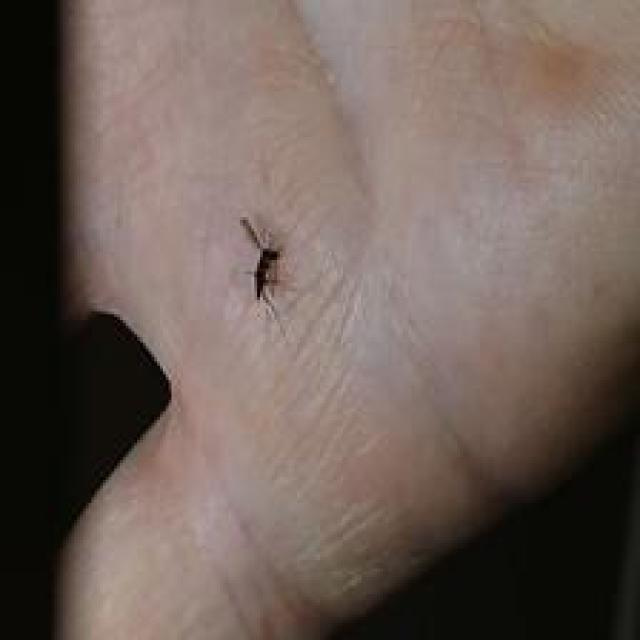Aedes albopictus: (239, 214, 284, 320)
